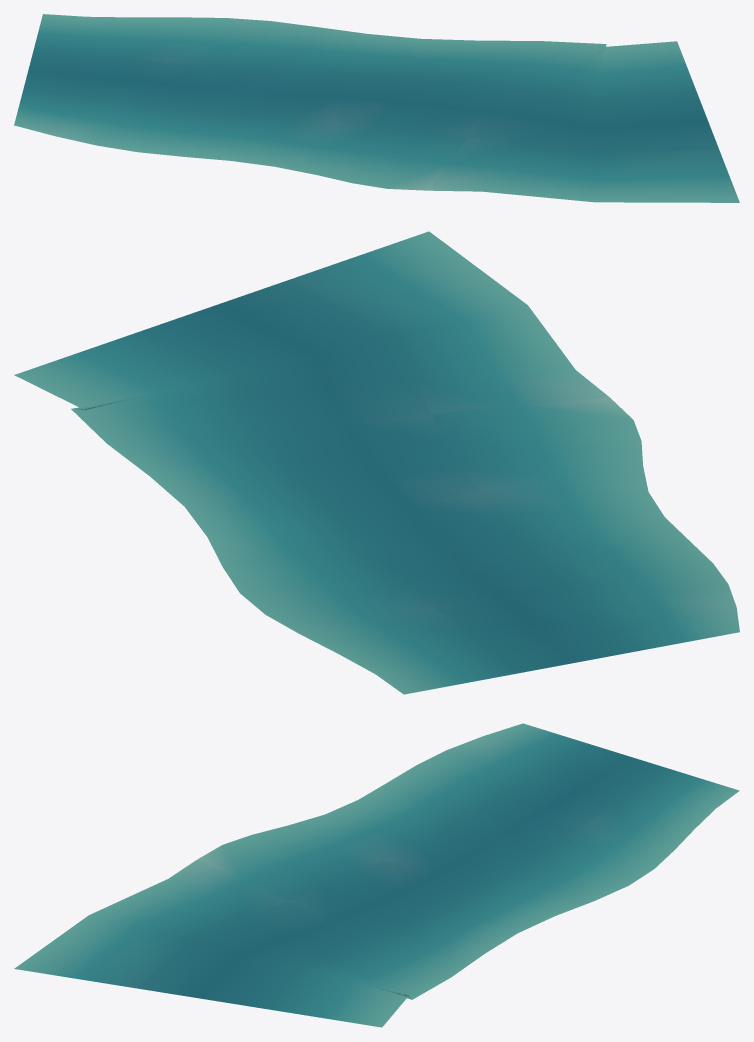
Rendered from ISL2_StreamLower.fbx.
The picture shows the model from 3 angles, top to bottom: view 1: azimuth 30°, elevation 25°; view 2: azimuth 150°, elevation 25°; view 3: azimuth 270°, elevation 25°; orthographic projection. The views are drawn at different scales.
Visible parts, largest first — view 1: ISL2_StreamLower.001; view 2: ISL2_StreamLower.001; view 3: ISL2_StreamLower.001.
Part boxes in pixels (left/top/right/bottom): ISL2_StreamLower.001: left=14, top=14, right=739, bottom=202; ISL2_StreamLower.001: left=14, top=231, right=739, bottom=694; ISL2_StreamLower.001: left=14, top=723, right=739, bottom=1027.
Bounding box in the file's own units: 14.29 × 0.2284 × 14.9.
